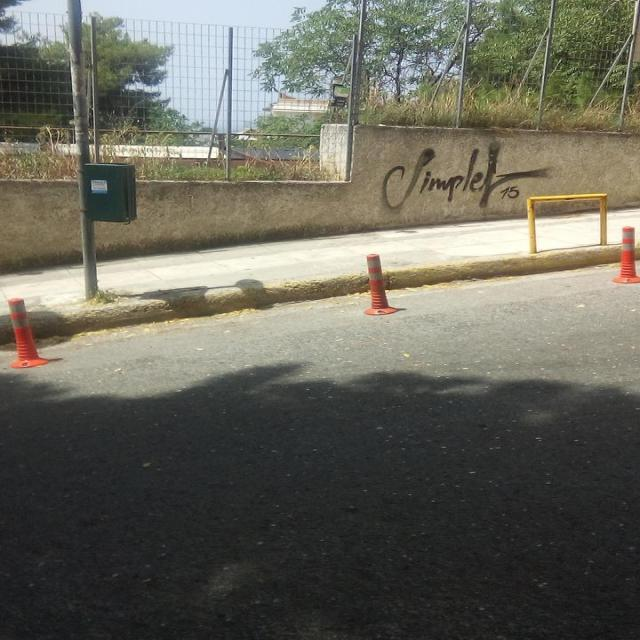nonspitting: (384, 142, 554, 212)
